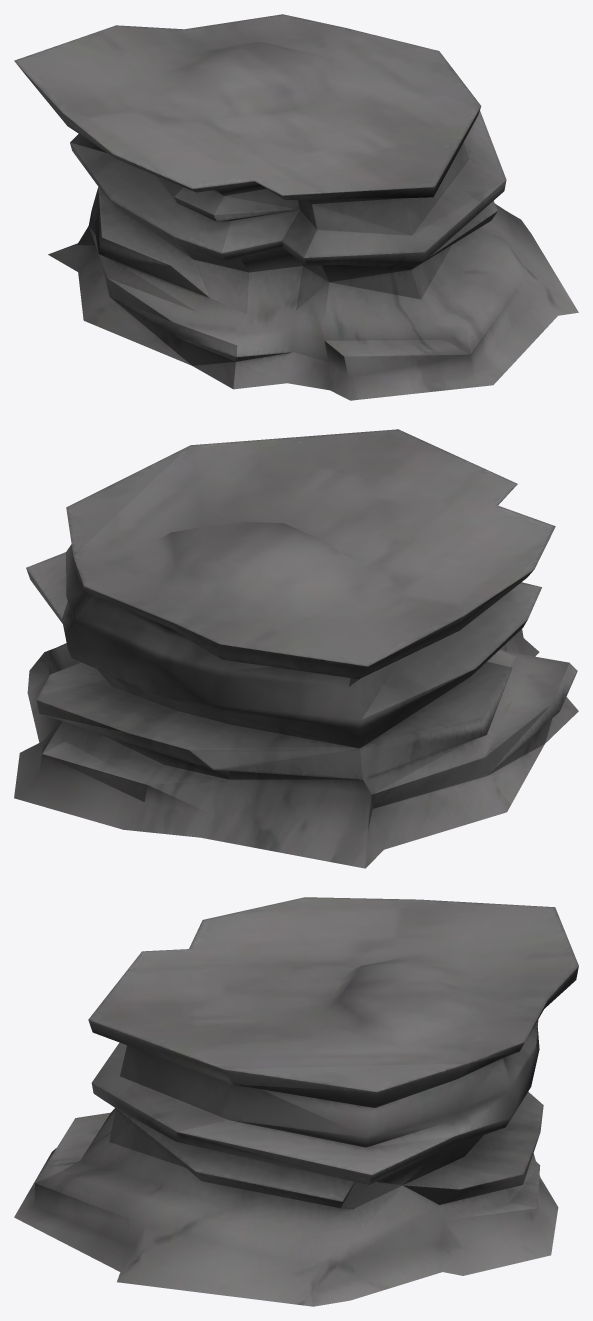
The picture shows the model from 3 angles, top to bottom: view 1: azimuth 30°, elevation 25°; view 2: azimuth 150°, elevation 25°; view 3: azimuth 270°, elevation 25°; orthographic projection. The views are drawn at different scales.
Parts seen in each view (by area): view 1: body0_model0_lod0_mesh0; view 2: body0_model0_lod0_mesh0; view 3: body0_model0_lod0_mesh0.
Boxes of the visible parts, x1,y1,x2,y2 form: body0_model0_lod0_mesh0: [14, 14, 578, 400]; body0_model0_lod0_mesh0: [14, 429, 578, 868]; body0_model0_lod0_mesh0: [14, 897, 578, 1306].
Size of the model in its own units: 252 by 111 by 277.
Materials: 1 (1 with a texture image).
